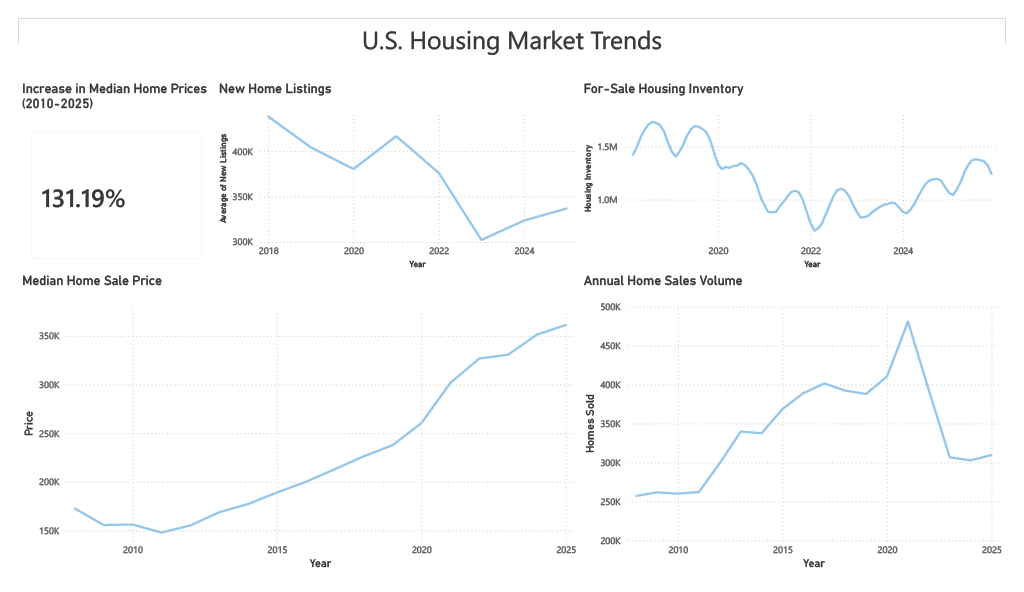

The dashboard page shown, as its layout file describes it:
{"tool":"powerbi","page":{"name":"Housing Market Trends","canvas":[1280,720],"ordinal":2},"visuals":[{"type":"lineChart","title":"Median Home Sale Price","fields":{"Category":["Median Sale Price.Date.Variation.Date Hierarchy.Year"],"Y":["Avg(Median Sale Price.Median Sale Price)"]},"box":[0,329.6,728.1,390.4],"z":0},{"type":"lineChart","title":"Annual Home Sales Volume","fields":{"Category":["Sales Count.Date.Variation.Date Hierarchy.Year"],"Y":["Avg(Sales Count.Sales Count)"]},"box":[728.1,329.6,551.6,390.4],"z":1000},{"type":"lineChart","title":"New Home Listings","fields":{"Y":["Avg(New Listings.New Listings)"],"Category":["New Listings.Date.Variation.Date Hierarchy.Year"]},"box":[254.8,80.7,473.7,248],"z":2000},{"type":"lineChart","title":"For-Sale Housing Inventory","fields":{"Category":["For Sale Inventory.Date"],"Y":["Avg(For Sale Inventory.For-Sale Inventory)"]},"box":[728,81,552,248],"z":3000},{"type":"textbox","box":[0,0,1279.7,80.6],"z":4000},{"type":"cardVisual","title":"Increase in Median Home Prices (2010-2025)","fields":{"Data":["Median Sale Price.Percent Change From 2010 to 2025"]},"box":[0,81,255,248],"z":5000}]}

Visuals, with their boxes in screenshot pixels (x1, y1, x2, y2), scaled from the page's 1280x720 canvas onto the 1024x592 screenshot:
"Median Home Sale Price" lineChart: (x1=0, y1=271, x2=582, y2=591)
"Annual Home Sales Volume" lineChart: (x1=582, y1=271, x2=1023, y2=591)
"New Home Listings" lineChart: (x1=204, y1=66, x2=583, y2=270)
"For-Sale Housing Inventory" lineChart: (x1=582, y1=67, x2=1023, y2=271)
textbox: (x1=0, y1=0, x2=1023, y2=66)
"Increase in Median Home Prices (2010-2025)" cardVisual: (x1=0, y1=67, x2=204, y2=271)
